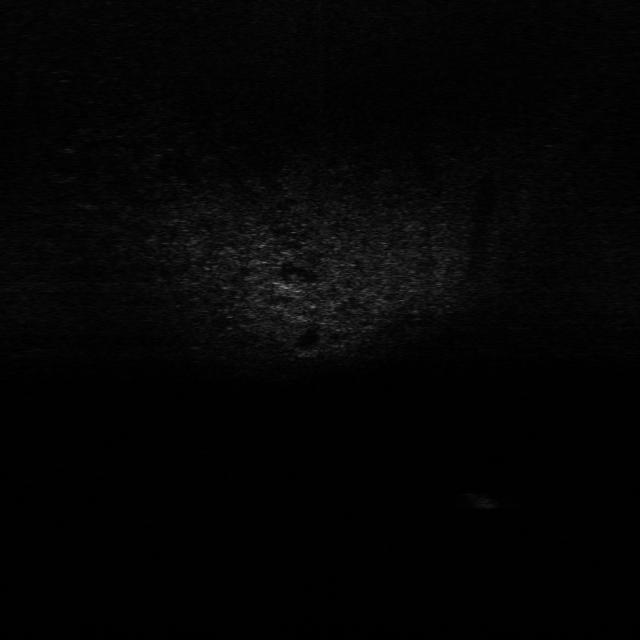cylinder: (464, 491, 500, 512)
